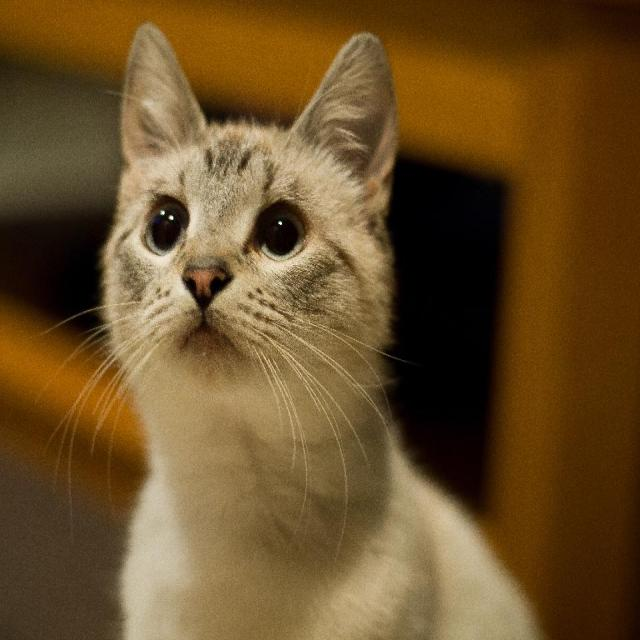Cat: (34, 19, 539, 638)
